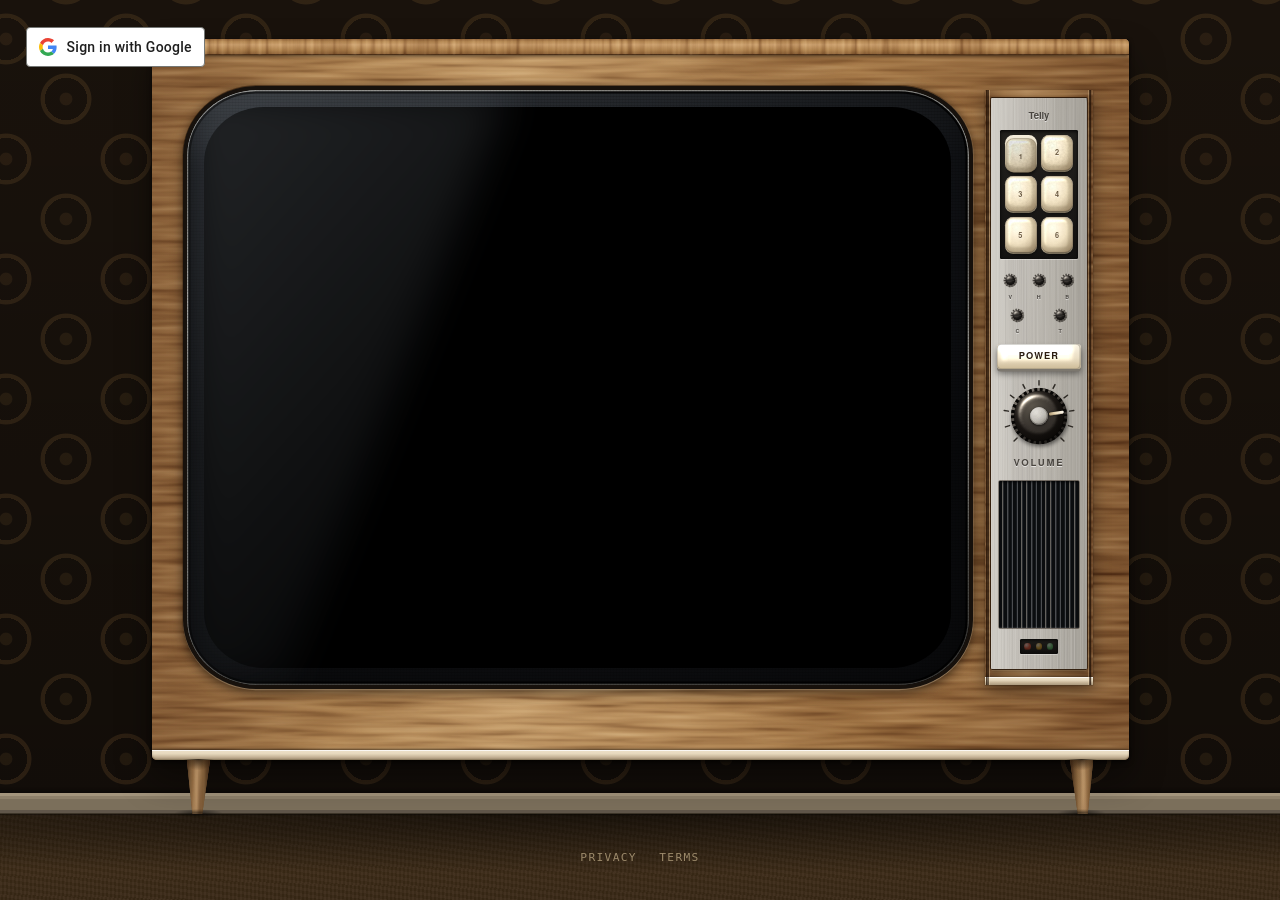
Channel › the Google session › takes the last error off the screen when signing in again
Click the button "Sign in with Google": (115, 47) top-left (26, 27), bottom-right (205, 67)
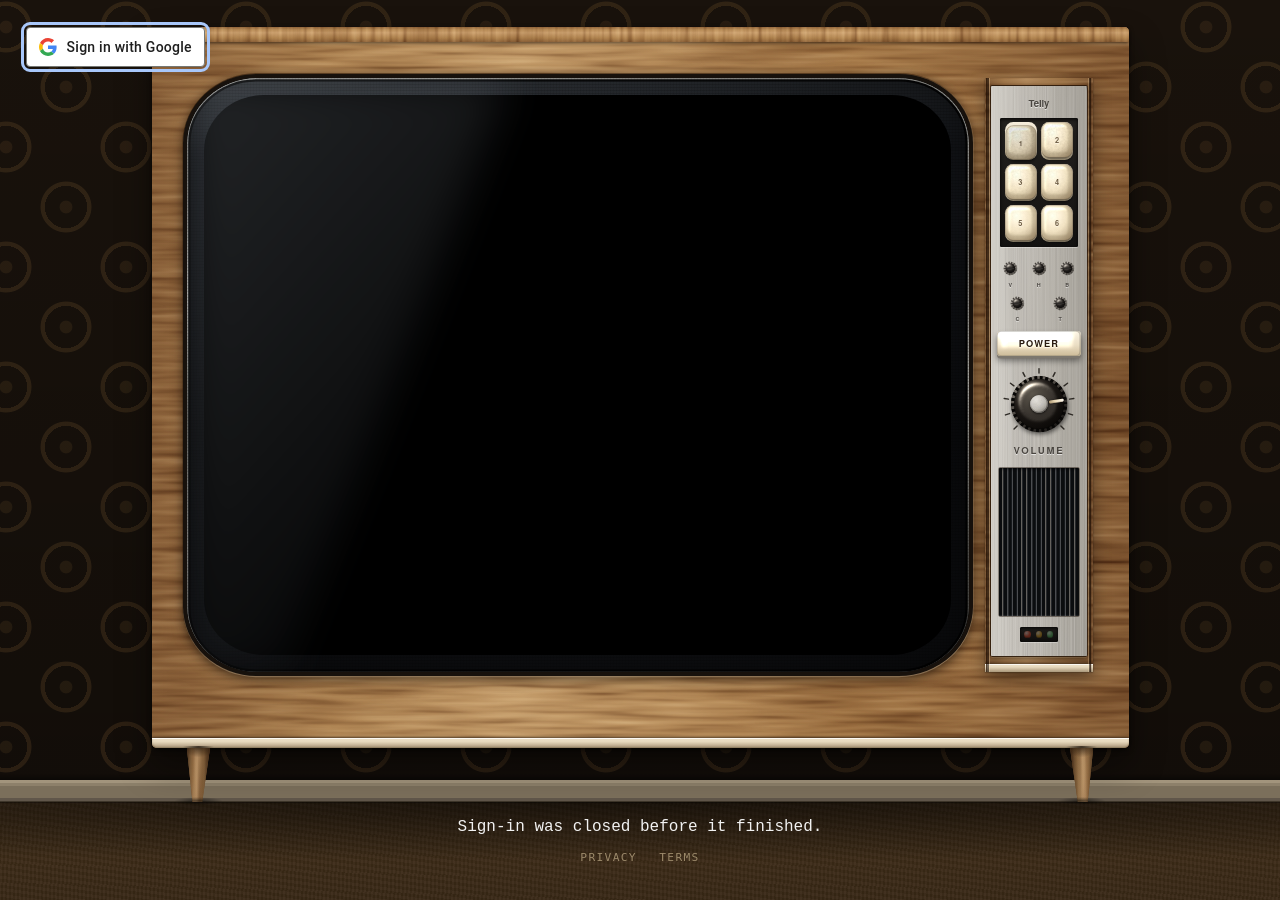
Expected: the message "Sign-in was closed before it finished." is shown, top-left (458, 818), bottom-right (822, 836)
Click the button "Sign in with Google": (115, 47) top-left (26, 27), bottom-right (205, 67)
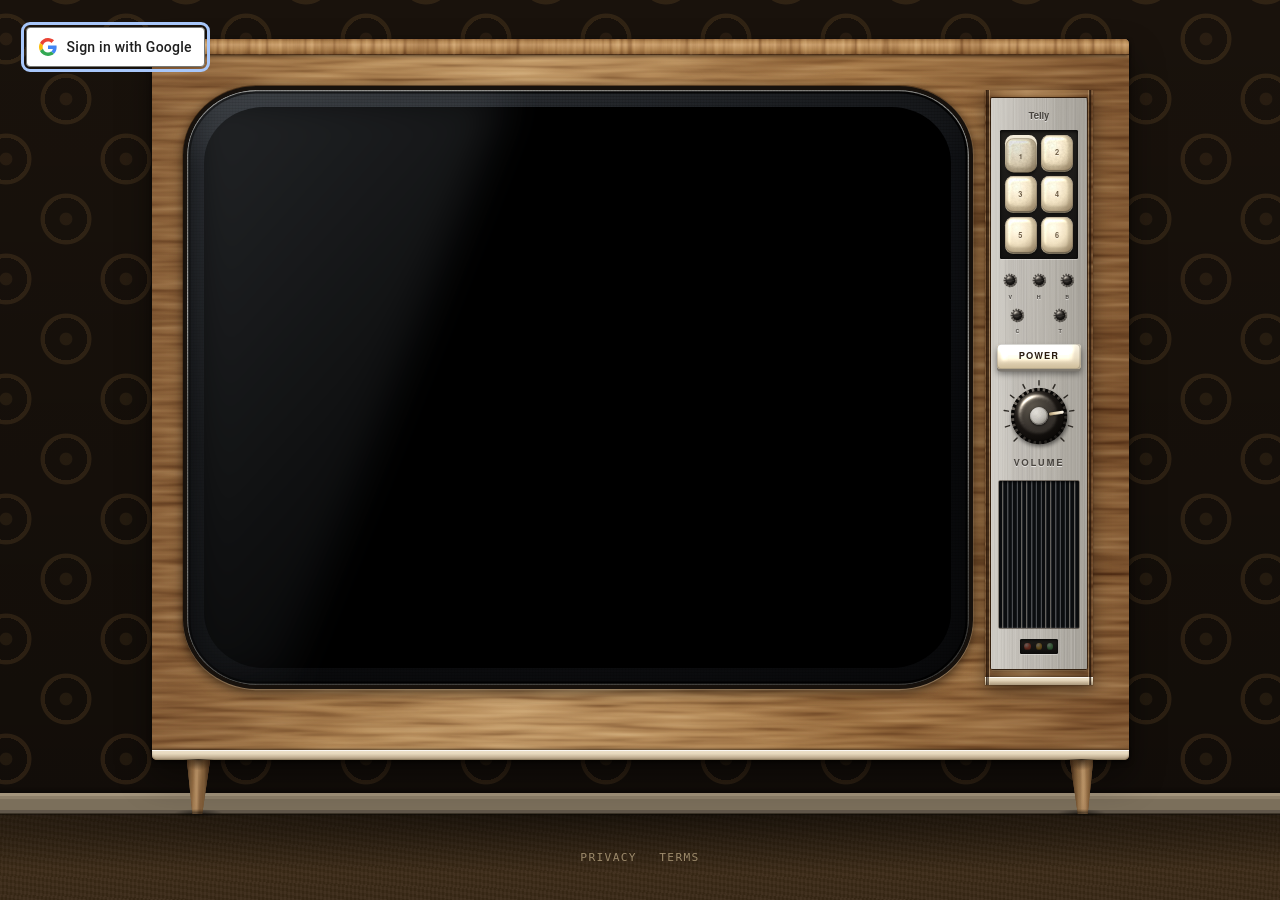
Expected: the message "Sign-in was closed before it finished." is gone
